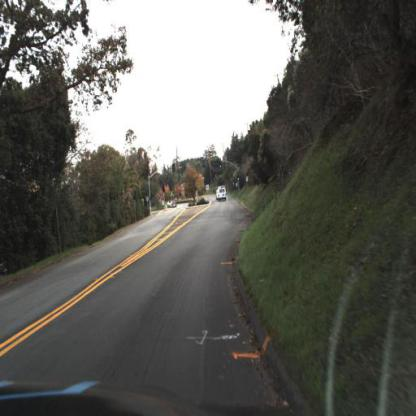car: (215, 184, 231, 203), (170, 200, 179, 212), (170, 201, 178, 213)
